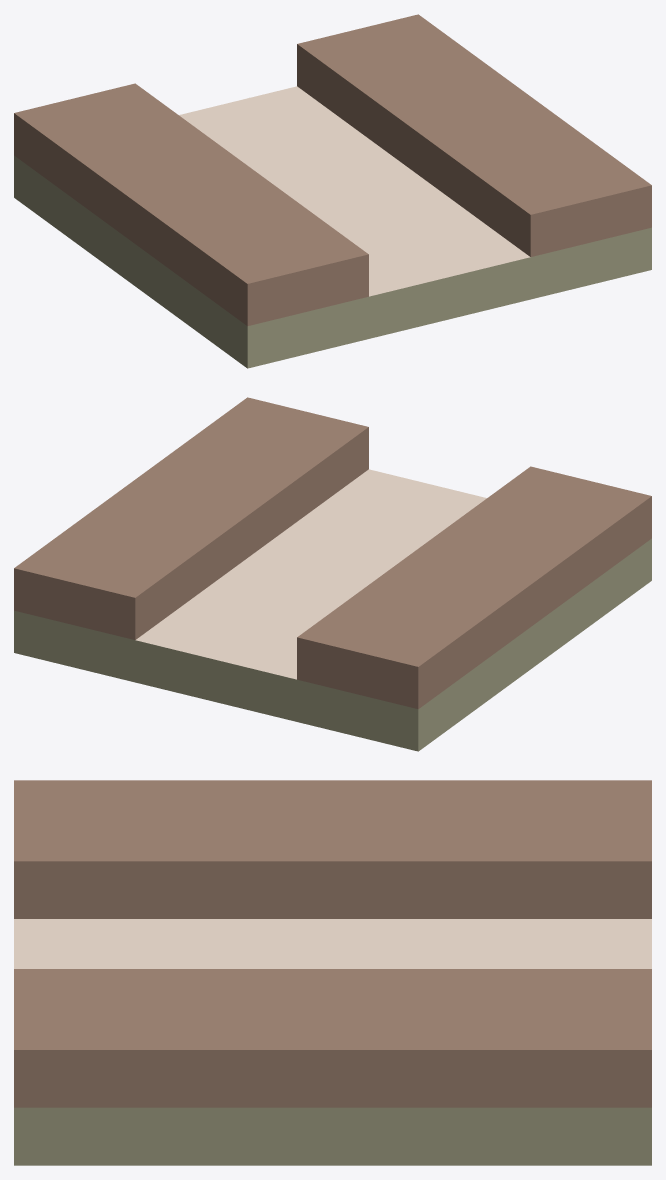
File: ITile-transformed.glb
3 views of the same model, one above another, from view 1: azimuth 30°, elevation 25°; view 2: azimuth 150°, elevation 25°; view 3: azimuth 270°, elevation 25° (orthographic). The views are drawn at different scales.
Visible parts, largest first — view 1: flor_tile; view 2: flor_tile; view 3: flor_tile.
Boxes of the visible parts, x1,y1,x2,y2 form: flor_tile: (14, 14, 651, 368); flor_tile: (14, 397, 651, 751); flor_tile: (14, 780, 651, 1165).
Size of the model in its own units: 2 by 0.4 by 2.
